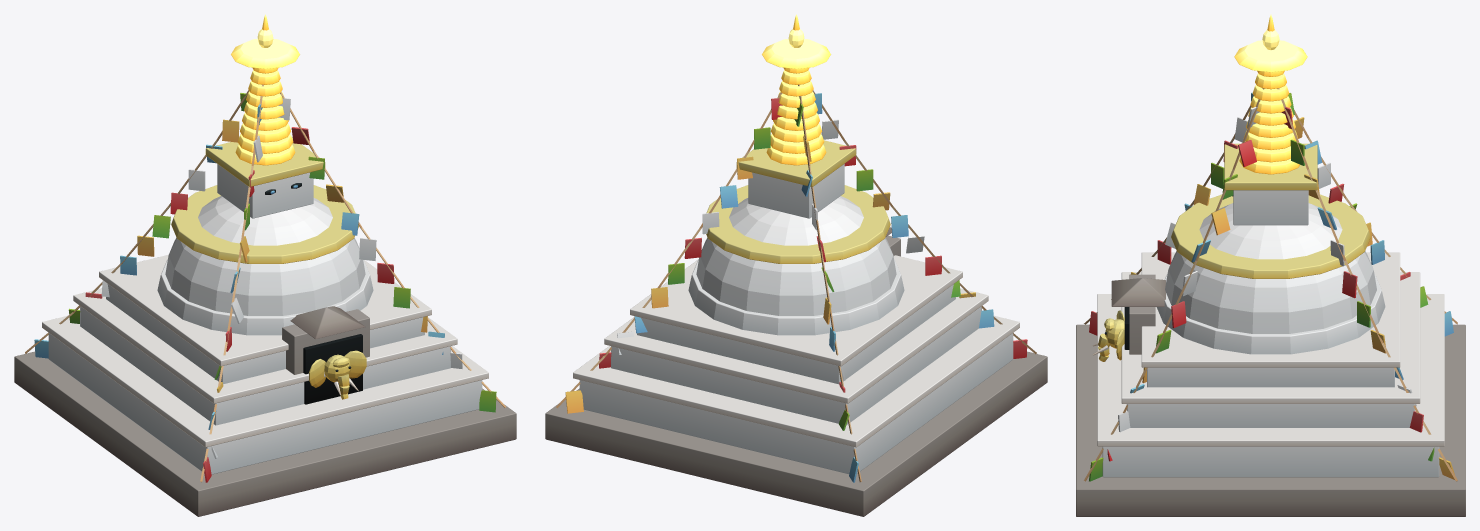
File: stupa.glb
The picture shows the model from 3 angles, left to right: view 1: azimuth 30°, elevation 25°; view 2: azimuth 150°, elevation 25°; view 3: azimuth 270°, elevation 25°; orthographic projection. The views are drawn at different scales.
Visible parts, largest first — view 1: stupa; view 2: stupa; view 3: stupa.
Boxes of the visible parts, x1,y1,x2,y2 form: stupa: (14, 14, 516, 516); stupa: (545, 14, 1047, 516); stupa: (1076, 14, 1465, 516).
Bounding box in the file's own units: 4.4 × 5.24 × 4.4.
Materials: 3 (3 with a texture image).
